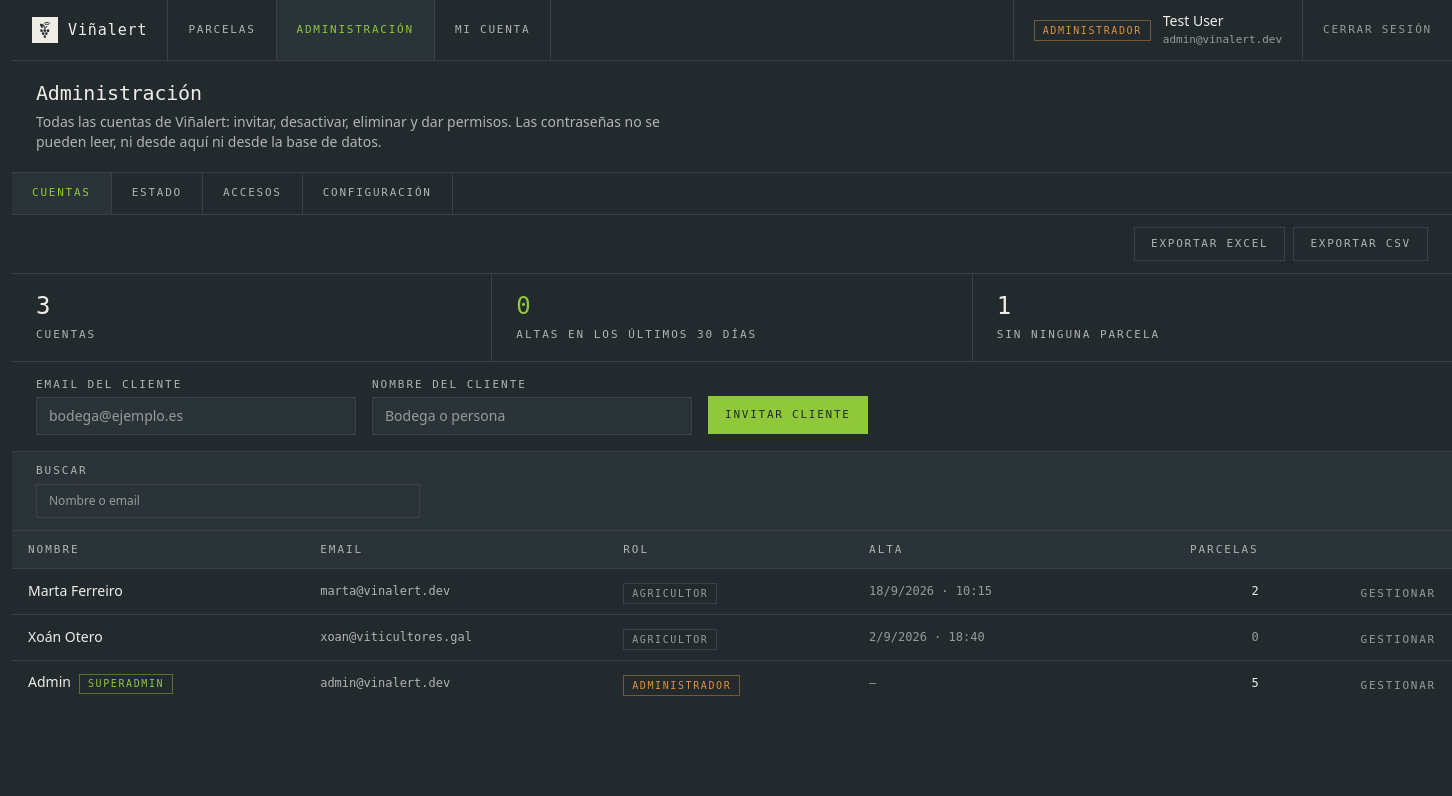
Test: desactivar una cuenta lo refleja en la fila
Click the button "Gestionar" in the row of "Marta Ferreiro". click: (1398, 595)
box: [1360,586,1436,603]
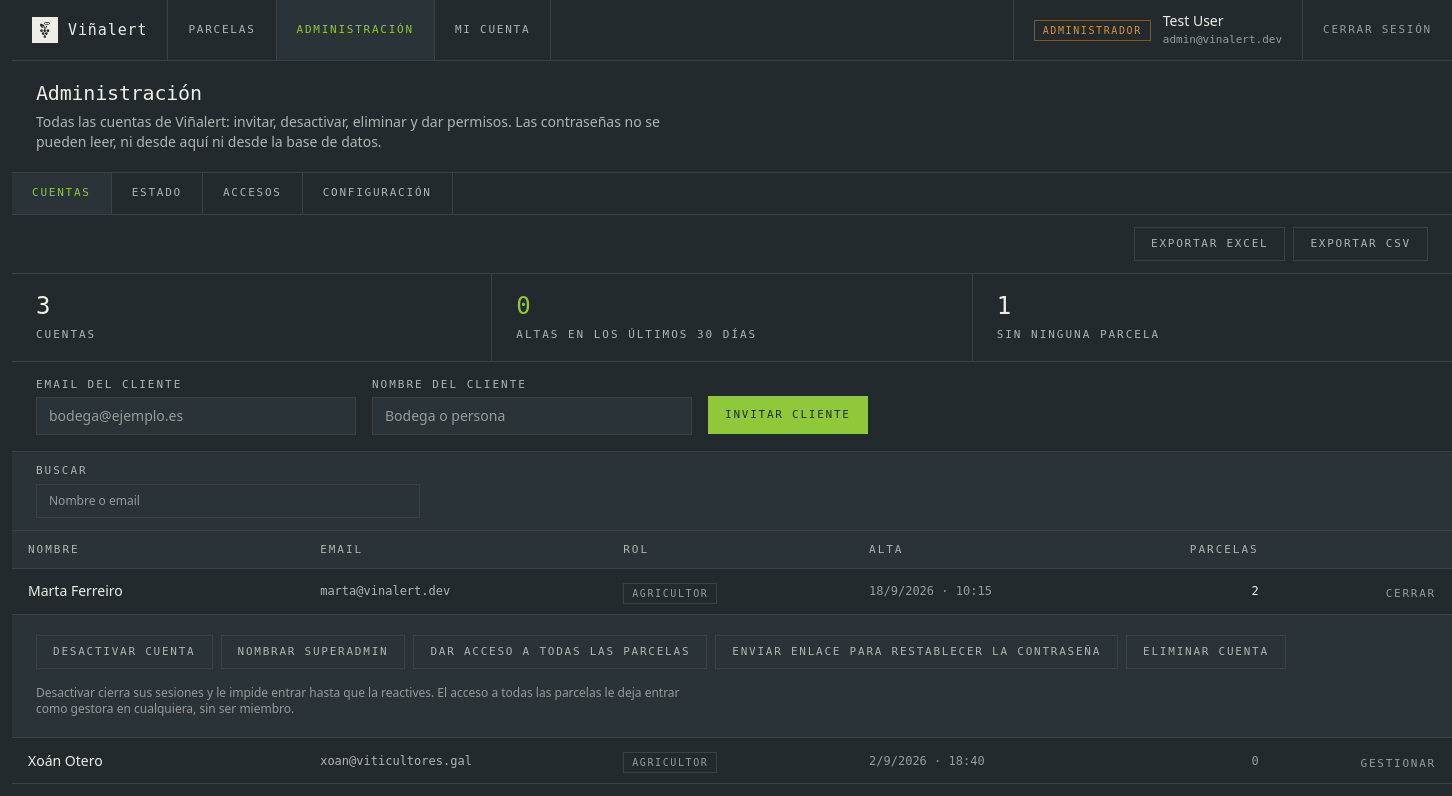
Click the button "Desactivar cuenta". click: (124, 652)
box: [36,635,212,669]
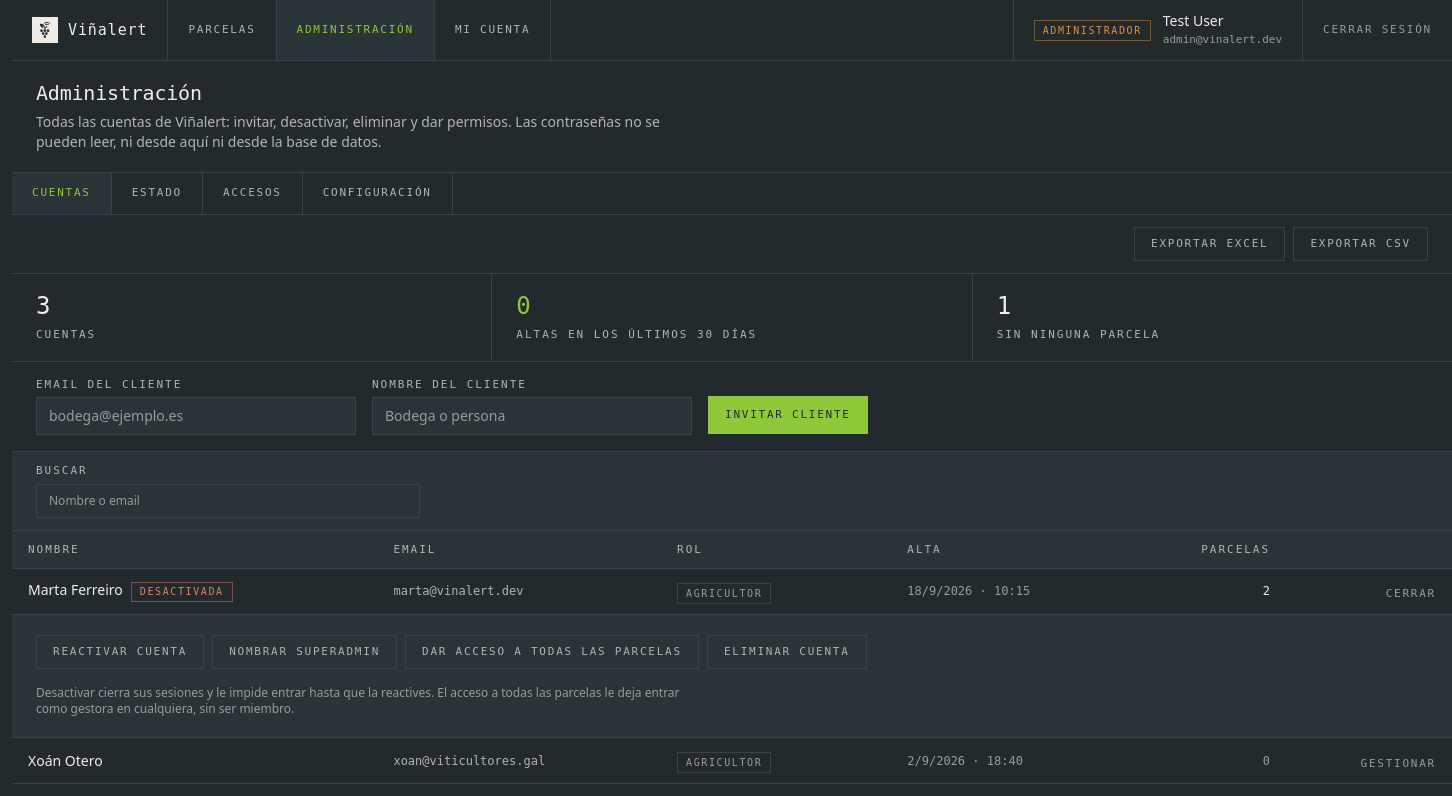
Expected: the text "Desactivada" is shown, [131,582,233,602]
